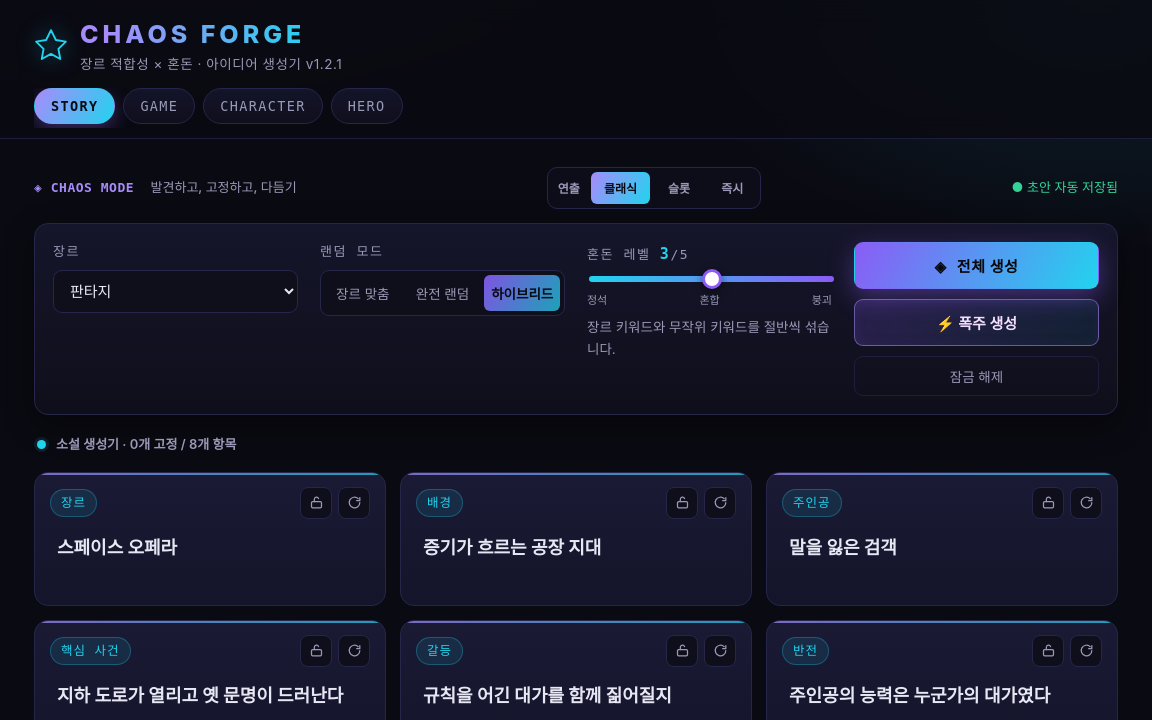
V1.2.1 추첨 연출 복구 › 즉시 모드는 기다림 없이 결과를 보여준다
This screenshot has width=1152, height=720.
Click the button "즉시".
click(732, 188)  # box [708,172,756,204]
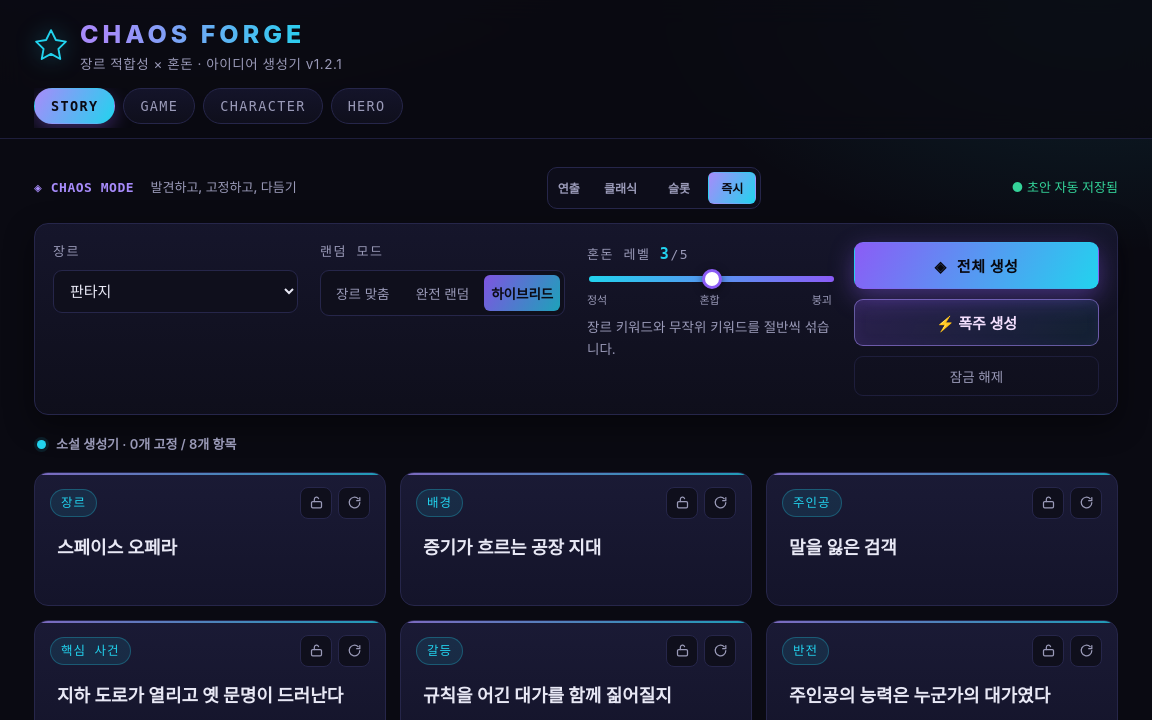
Click the button with id "generateBtn".
click(976, 265)  # box [854,242,1099,289]
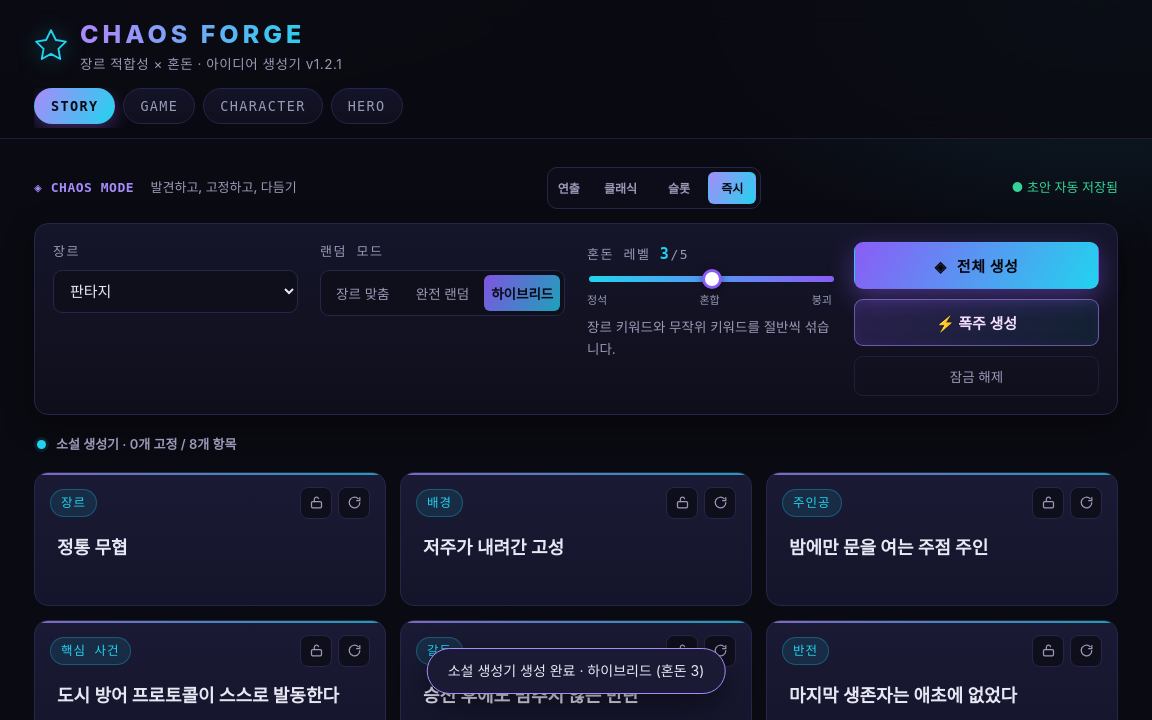
Expected: the message with id "toast" shows "생성 완료", [448,662,704,679]
